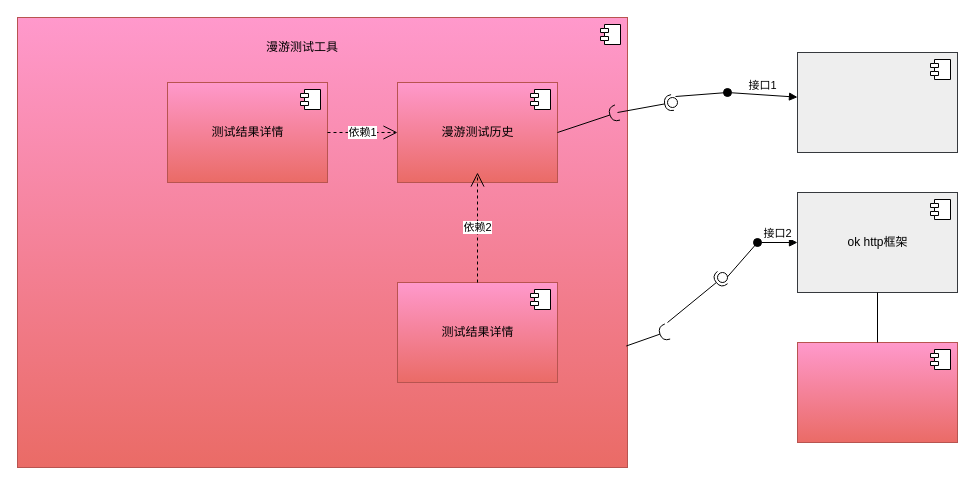
Image size: 975x485. Some labels were removed from this diagram. The box of each missing label's shape, as (x1, y1, x2, y2) in pixels:
漫游检测: (796, 52, 958, 152)
漫游测试云端服务: (796, 342, 958, 442)
